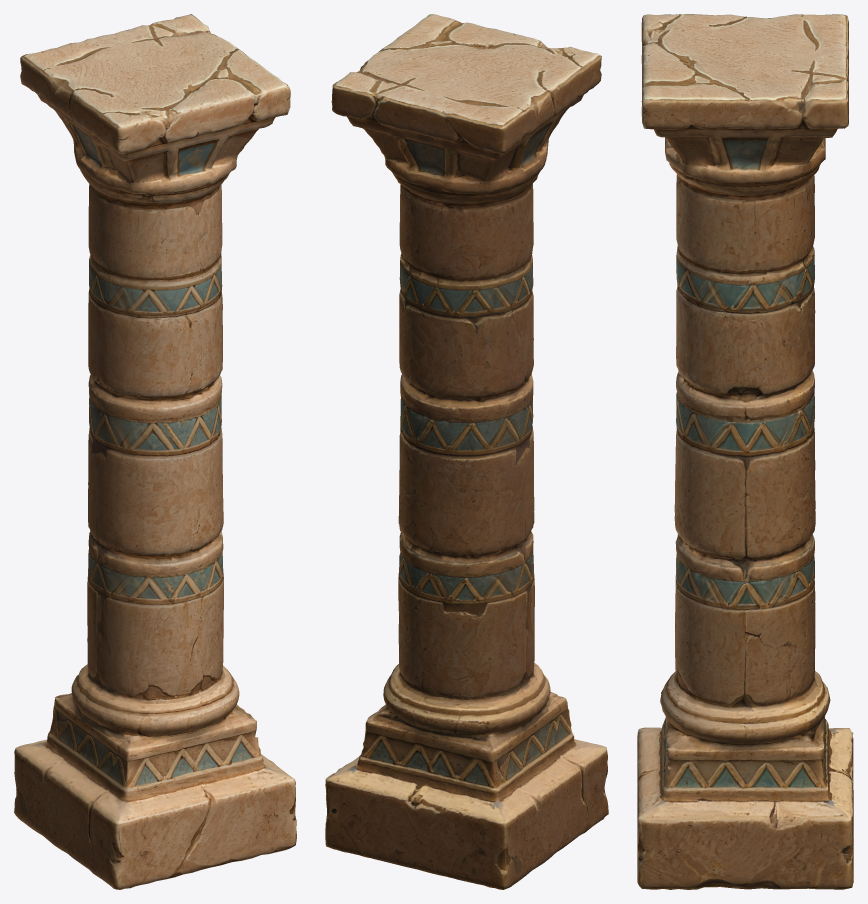
The model's file is DESERT_P05_RUIN_COLUMN.glb.
3 views of the same model, side by side, from view 1: azimuth 30°, elevation 25°; view 2: azimuth 150°, elevation 25°; view 3: azimuth 270°, elevation 25° (orthographic). The views are drawn at different scales.
Visible parts, largest first — view 1: texture_mapping; view 2: texture_mapping; view 3: texture_mapping.
Boxes of the visible parts, x1,y1,x2,y2 form: texture_mapping: (14, 14, 296, 889); texture_mapping: (325, 14, 608, 889); texture_mapping: (637, 14, 853, 889).
Bounding box in the file's own units: 0.2517 × 1 × 0.2486.
Materials: 1 (1 with a texture image).
